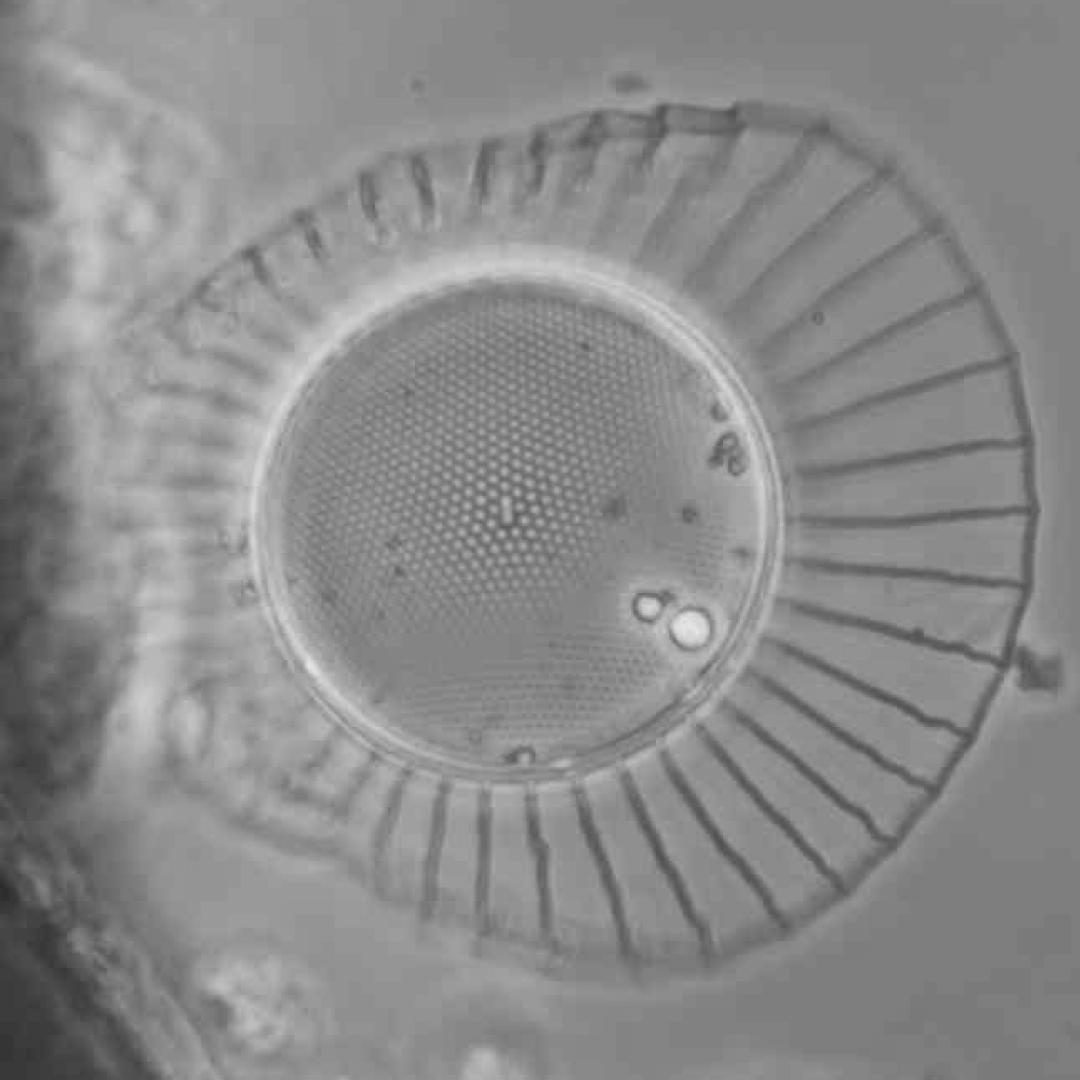planktoniella_sol: (87, 102, 1034, 963)
